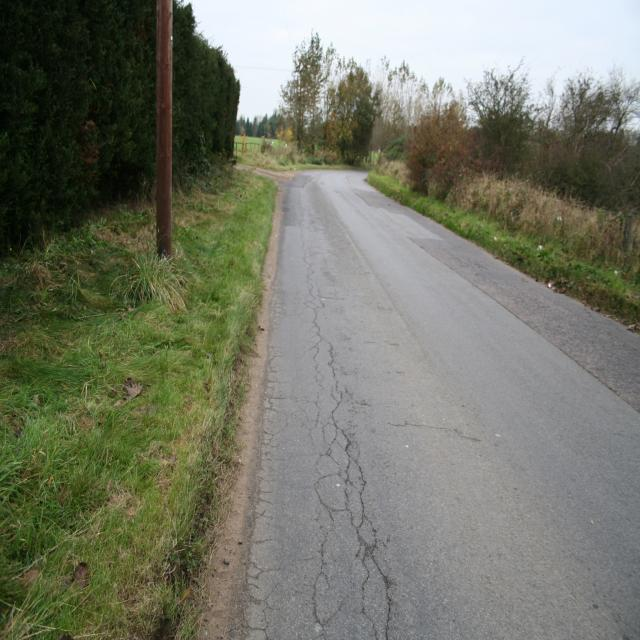Pothole: (182, 178, 440, 640)
